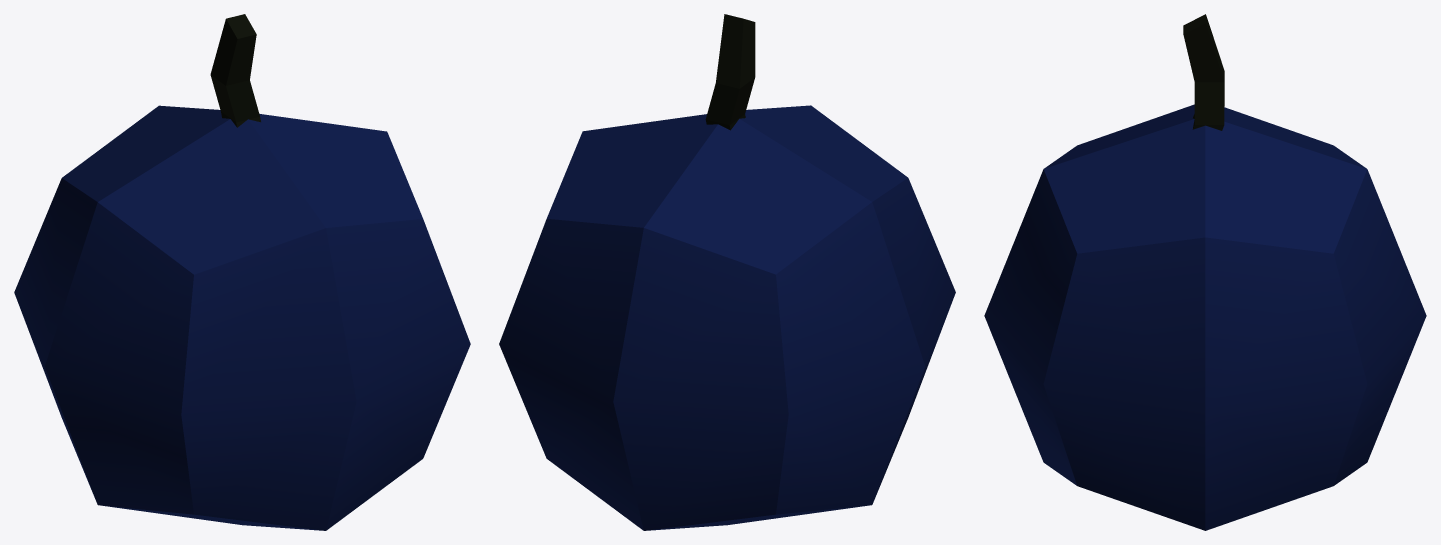
File: MESH_Berry.fbx
The picture shows the model from 3 angles, left to right: view 1: azimuth 30°, elevation 25°; view 2: azimuth 150°, elevation 25°; view 3: azimuth 270°, elevation 25°; orthographic projection. The views are drawn at different scales.
Parts seen in each view (by area): view 1: MESH_Berry; view 2: MESH_Berry; view 3: MESH_Berry.
Boxes of the visible parts, left/top/right/bottom form: MESH_Berry: left=14, top=14, right=470, bottom=530; MESH_Berry: left=499, top=14, right=955, bottom=530; MESH_Berry: left=984, top=14, right=1426, bottom=530.
Bounding box in the file's own units: 0.0375 × 0.0462 × 0.0375.
